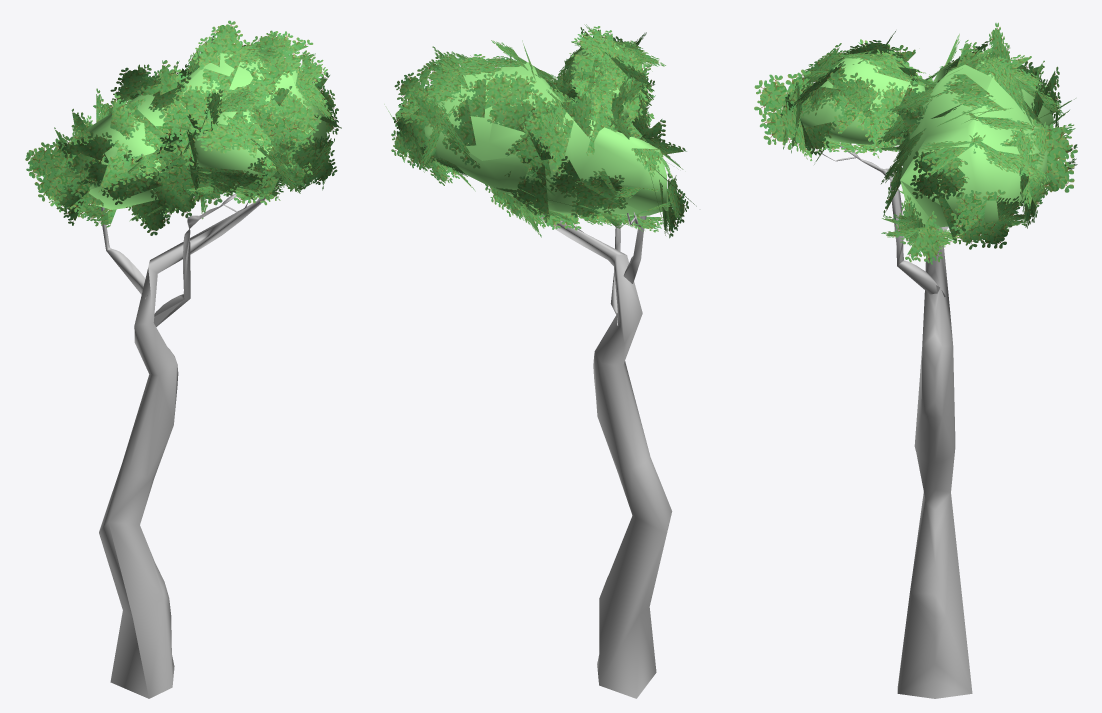
Rendered from SM_Navitree_C_low.fbx.
3 renders of one model, left to right at view 1: azimuth 30°, elevation 25°; view 2: azimuth 150°, elevation 25°; view 3: azimuth 270°, elevation 25°, orthographic. The views are drawn at different scales.
Visible parts, largest first — view 1: SM_Navitree_C_low; view 2: SM_Navitree_C_low; view 3: SM_Navitree_C_low.
Boxes of the visible parts, x1,y1,x2,y2 form: SM_Navitree_C_low: (25, 20, 341, 698); SM_Navitree_C_low: (384, 24, 696, 698); SM_Navitree_C_low: (754, 22, 1077, 698).
Bounding box in the file's own units: 2111 × 4123 × 1801.
